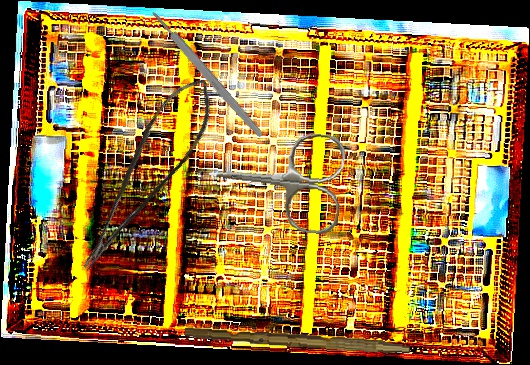Iris Scissors: (204, 123, 347, 236)
Micro Scissor: (49, 66, 235, 277)
Scalpel Handle: (149, 8, 266, 140), (184, 326, 411, 354)
